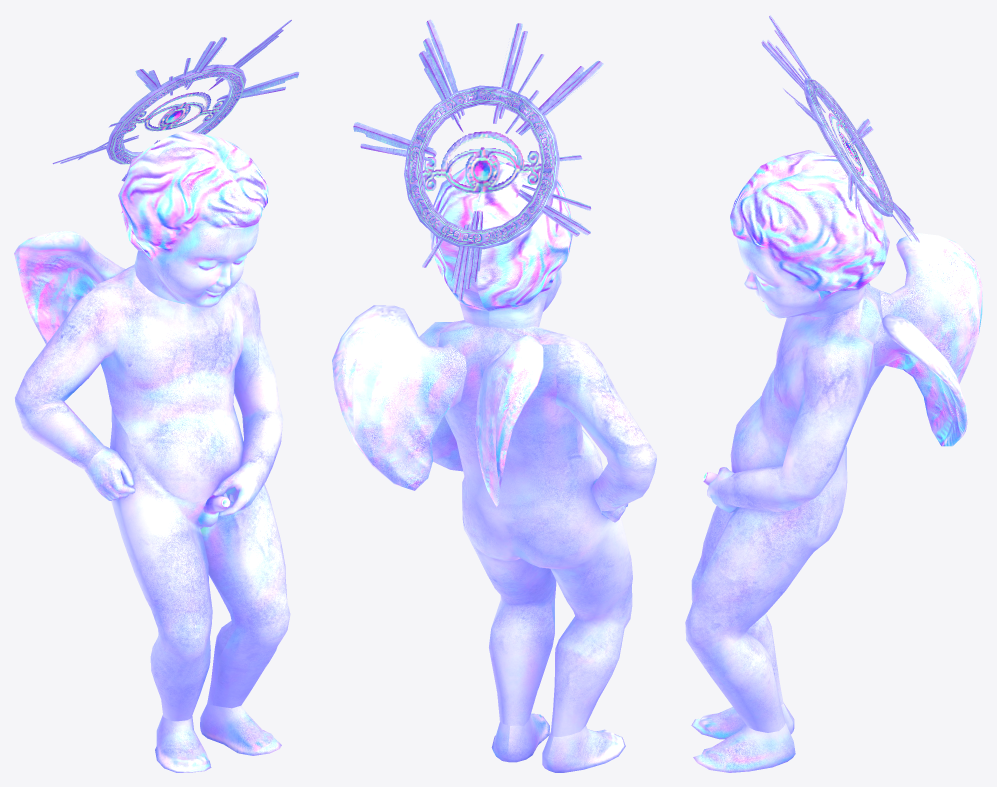
The model's file is Cherub.fbx.
The picture shows the model from 3 angles, left to right: view 1: azimuth 30°, elevation 25°; view 2: azimuth 150°, elevation 25°; view 3: azimuth 270°, elevation 25°; orthographic projection. The views are drawn at different scales.
Visible parts, largest first — view 1: rdmobj01, rdmobj00, rdmobj03, rdmobj02; view 2: rdmobj01, rdmobj02, rdmobj03, rdmobj00; view 3: rdmobj01, rdmobj00, rdmobj02, rdmobj03.
Part boxes in pixels (bbox=[...]): rdmobj01: bbox=[15, 264, 290, 772]; rdmobj00: bbox=[118, 131, 268, 308]; rdmobj03: bbox=[52, 20, 299, 181]; rdmobj02: bbox=[14, 230, 125, 344]; rdmobj01: bbox=[419, 320, 656, 772]; rdmobj02: bbox=[332, 305, 543, 507]; rdmobj03: bbox=[353, 19, 603, 300]; rdmobj00: bbox=[430, 160, 572, 328]; rdmobj01: bbox=[685, 282, 884, 772]; rdmobj00: bbox=[730, 150, 889, 318]; rdmobj02: bbox=[873, 233, 982, 446]; rdmobj03: bbox=[761, 15, 919, 242].
Bounding box in the file's own units: 3.51 × 8.16 × 3.05.
